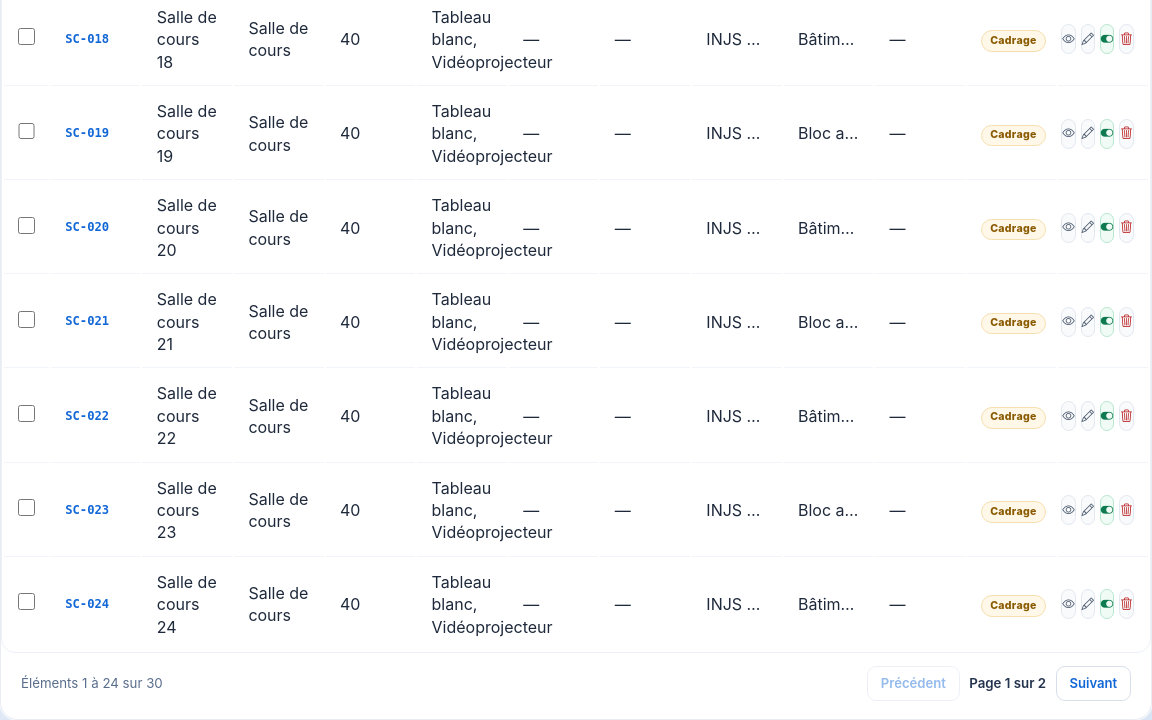
Scenario: écran générique — présentations liste / cartes et pagination › pagine la liste par 24 au lieu d’afficher toutes les lignes
(page scrolled)
Expected: the text "Éléments 1 à 24 sur 30" is shown, [21,673,163,694]
Expected: the text "Page 1 sur 2" is shown, [969,673,1046,694]
Step 1. Click the button "Suivant" → (1093, 683), box [1056,666,1131,701]
(page scrolled)
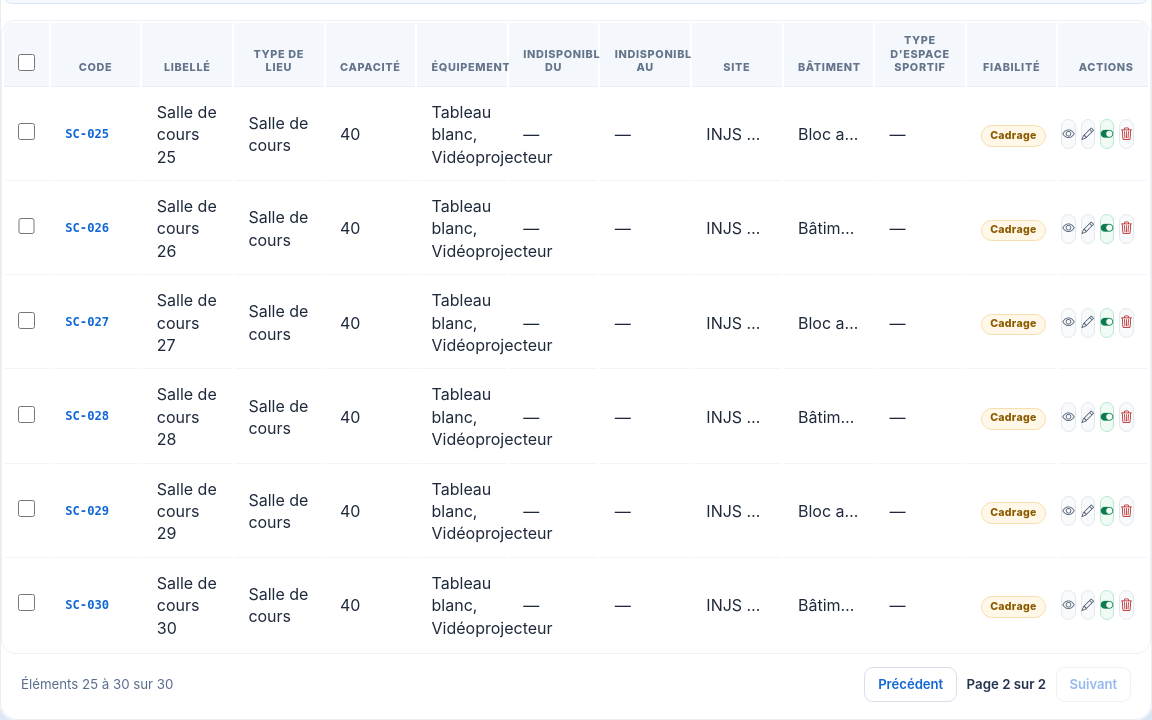
Expected: the text "Éléments 25 à 30 sur 30" is shown, [21,674,173,695]
Expected: the text "Page 2 sur 2" is shown, [967,674,1046,695]
